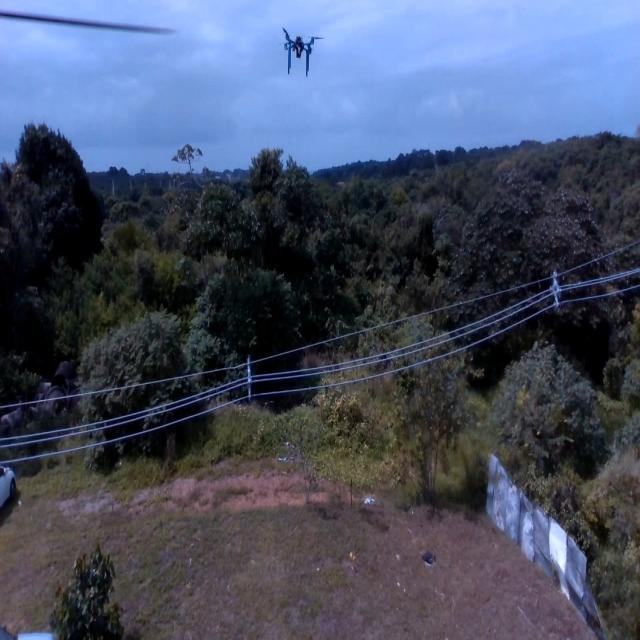-uav-: (275, 21, 330, 87)
